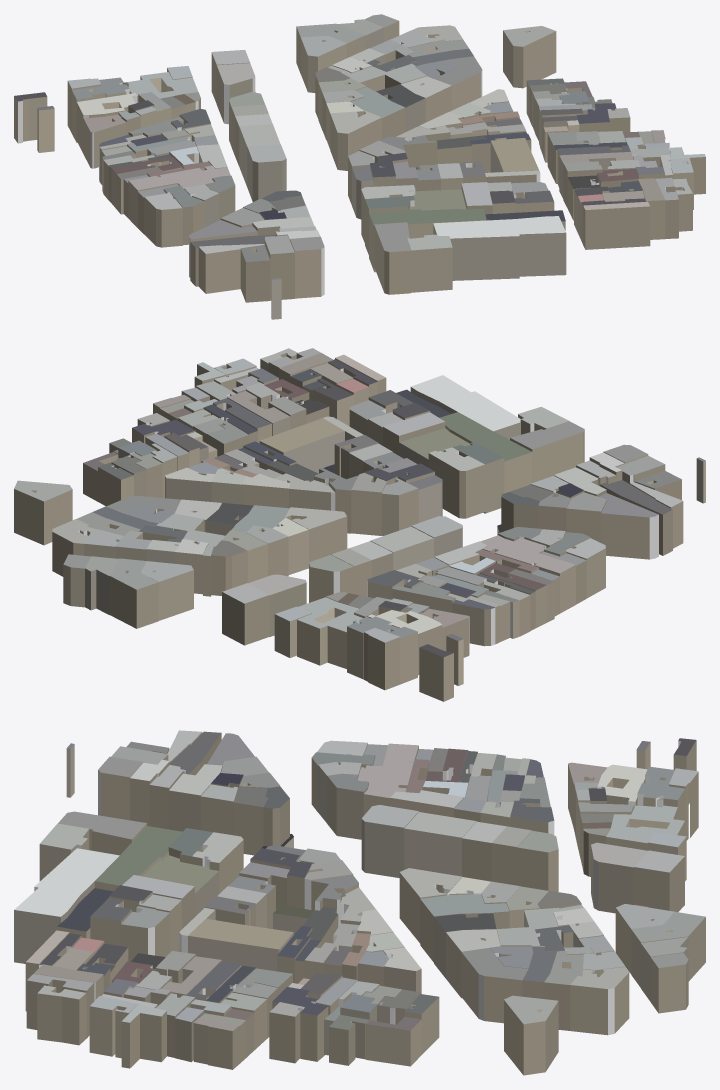
The picture shows the model from 3 angles, top to bottom: view 1: azimuth 30°, elevation 25°; view 2: azimuth 150°, elevation 25°; view 3: azimuth 270°, elevation 25°; orthographic projection. The views are drawn at different scales.
Parts seen in each view (by area): view 1: tuile; view 2: tuile; view 3: tuile.
Part boxes in pixels (x1,y1,x2,y2): tuile: (14,14,705,319); tuile: (14,348,705,701); tuile: (14,730,705,1075).
Bounding box in the file's own units: 273 × 29.48 × 270.
